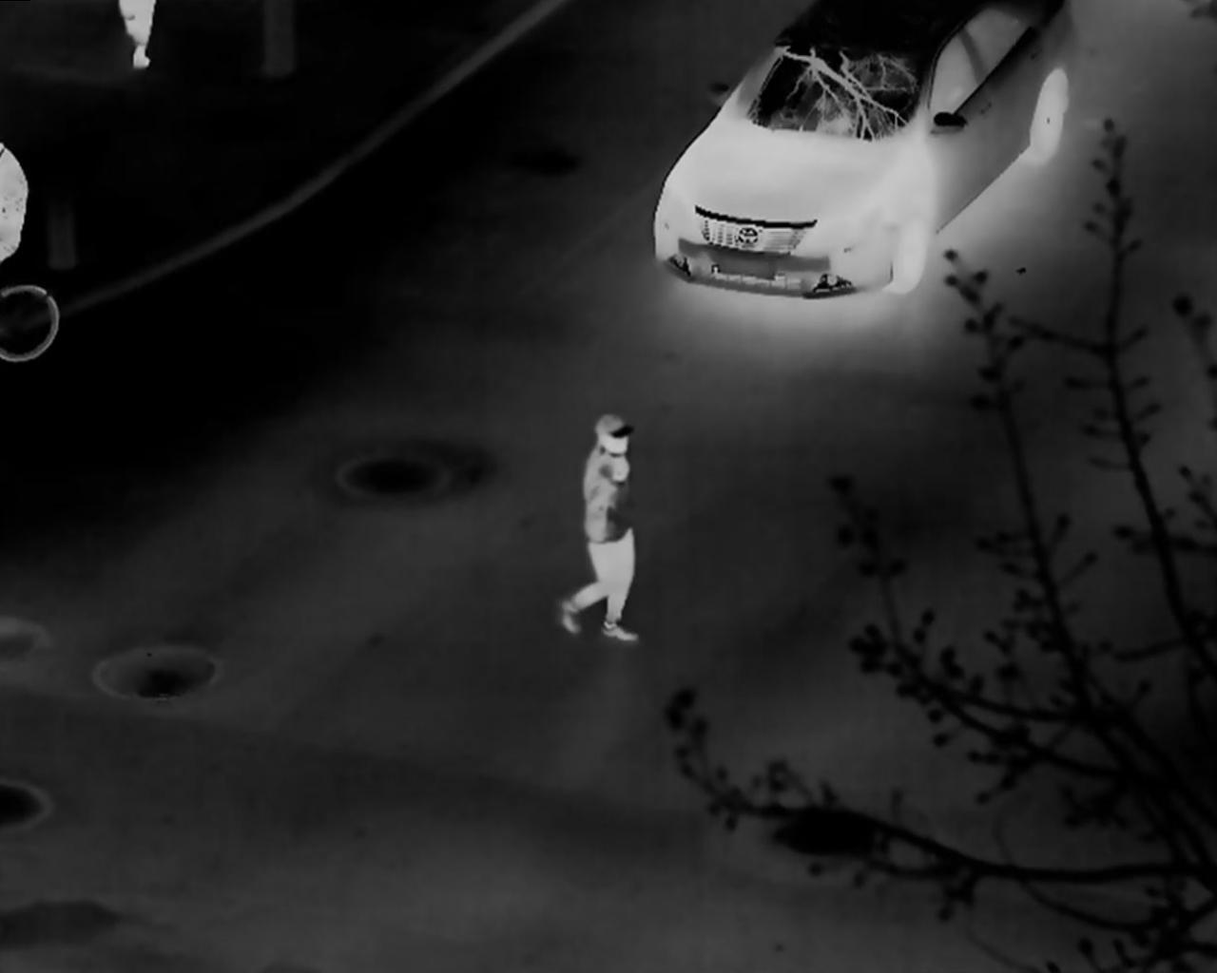person: (560, 411, 640, 642)
